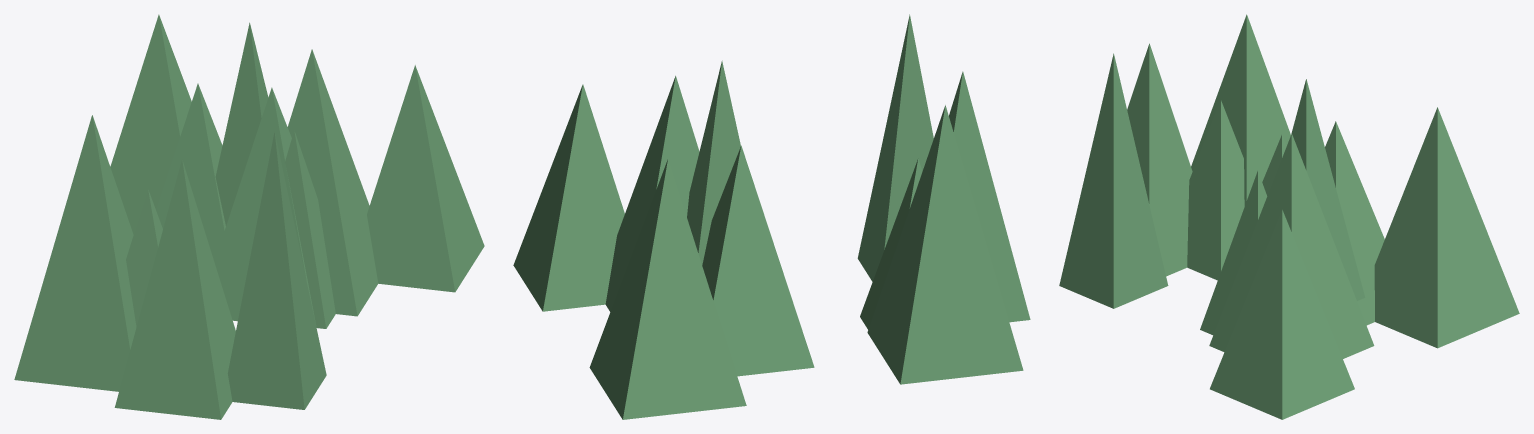
The model's file is grass-tuft-cluster.glb.
The picture shows the model from 3 angles, left to right: view 1: azimuth 30°, elevation 25°; view 2: azimuth 150°, elevation 25°; view 3: azimuth 270°, elevation 25°; orthographic projection. The views are drawn at different scales.
Visible parts, largest first — view 1: grass-tuft-cluster; view 2: grass-tuft-cluster; view 3: grass-tuft-cluster.
Part boxes in pixels (bbox=[...]): grass-tuft-cluster: bbox=[14, 14, 484, 419]; grass-tuft-cluster: bbox=[513, 14, 1030, 419]; grass-tuft-cluster: bbox=[1059, 14, 1519, 419].
Bounding box in the file's own units: 1.41 × 0.7402 × 1.27.
